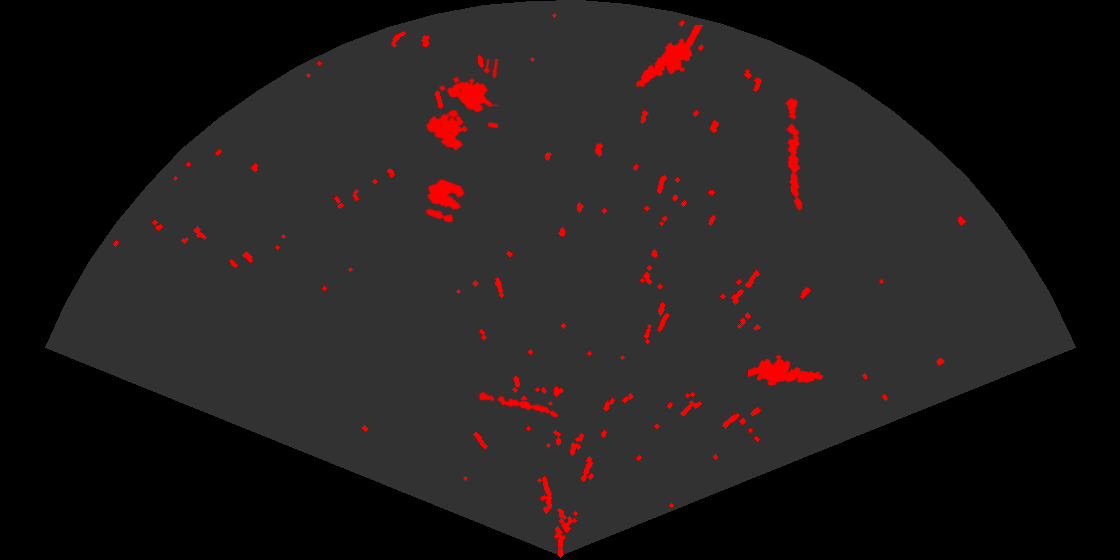ball: (424, 177, 466, 224)
cage: (425, 59, 498, 152)
chain: (783, 96, 805, 211), (476, 390, 561, 419)
frogman: (634, 25, 703, 89), (748, 353, 825, 387)
